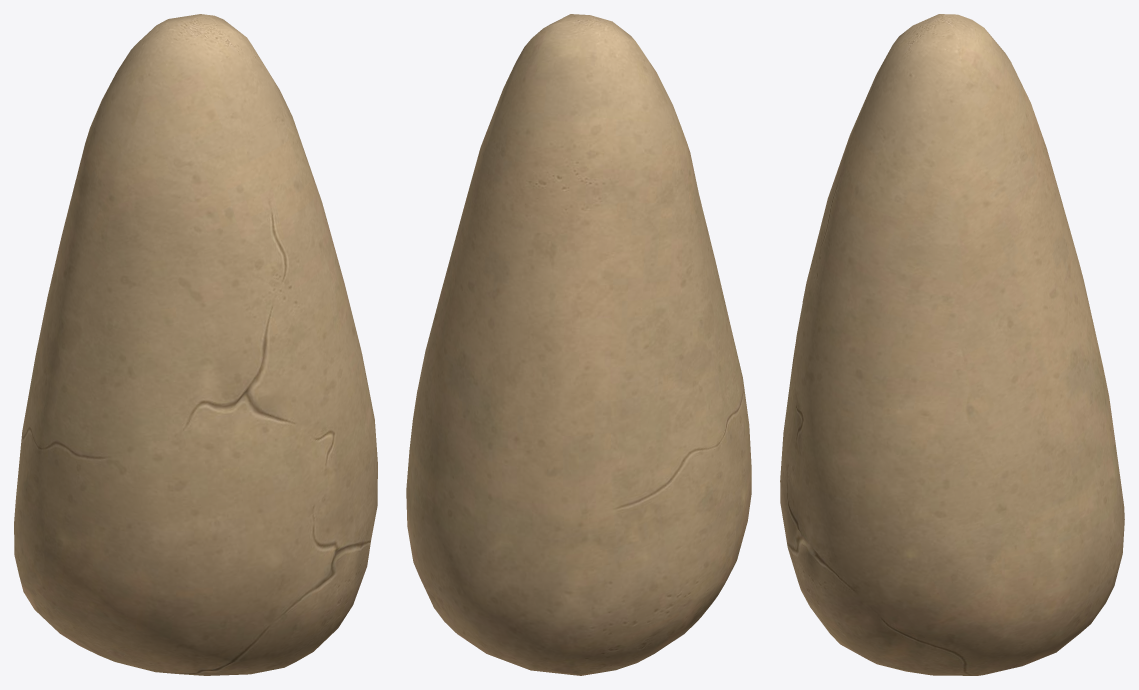
3 renders of one model, left to right at view 1: azimuth 30°, elevation 25°; view 2: azimuth 150°, elevation 25°; view 3: azimuth 270°, elevation 25°, orthographic. The views are drawn at different scales.
Visible parts, largest first — view 1: tb_bone_02d; view 2: tb_bone_02d; view 3: tb_bone_02d.
Boxes of the visible parts, x1,y1,x2,y2 form: tb_bone_02d: (14,14,377,675); tb_bone_02d: (406,14,751,675); tb_bone_02d: (780,14,1124,675).
Size of the model in its own units: 0.7023 by 1.36 by 0.679.
1 material, 1 textured.
